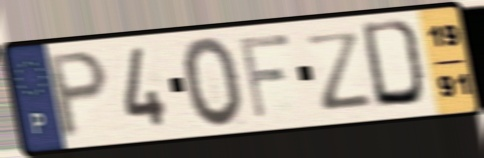4: (122, 43, 171, 133)
D: (358, 17, 432, 111)
F: (236, 30, 294, 124)
O: (179, 34, 246, 132)
P: (45, 47, 111, 143)
Z: (302, 28, 376, 114)
